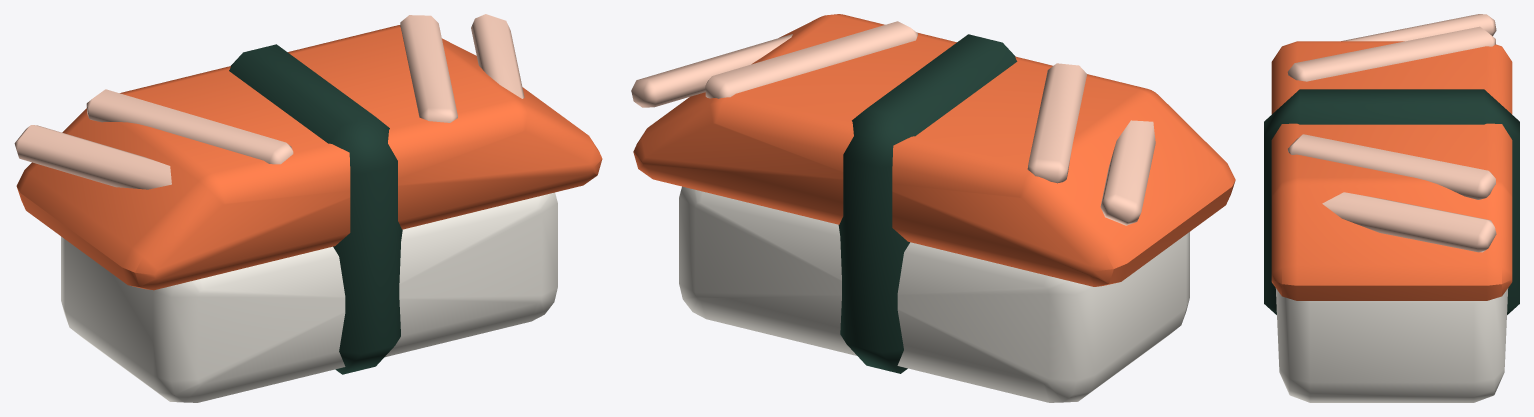
Rendered from Food_sushi.glb.
3 renders of one model, left to right at view 1: azimuth 30°, elevation 25°; view 2: azimuth 150°, elevation 25°; view 3: azimuth 270°, elevation 25°, orthographic. The views are drawn at different scales.
Parts seen in each view (by area): view 1: Salmon_FF7A45, Rice_FFFBF2, Nori_1F3D34, SalmonFat_FFD2BD; view 2: Salmon_FF7A45, Rice_FFFBF2, Nori_1F3D34, SalmonFat_FFD2BD; view 3: Salmon_FF7A45, Rice_FFFBF2, SalmonFat_FFD2BD, Nori_1F3D34.
Part boxes in pixels (x1=…): Salmon_FF7A45: x1=16, y1=25, x2=602, y2=290; Rice_FFFBF2: x1=61, y1=192, x2=557, y2=402; Nori_1F3D34: x1=229, y1=44, x2=402, y2=374; SalmonFat_FFD2BD: x1=14, y1=14, x2=524, y2=189; Salmon_FF7A45: x1=633, y1=14, x2=1235, y2=286; Rice_FFFBF2: x1=679, y1=186, x2=1189, y2=402; Nori_1F3D34: x1=838, y1=34, x2=1017, y2=373; SalmonFat_FFD2BD: x1=631, y1=21, x2=1155, y2=225; Salmon_FF7A45: x1=1271, y1=41, x2=1512, y2=300; Rice_FFFBF2: x1=1275, y1=288, x2=1508, y2=402; SalmonFat_FFD2BD: x1=1287, y1=14, x2=1496, y2=252; Nori_1F3D34: x1=1264, y1=89, x2=1519, y2=314.
Size of the model in its own units: 2.07 by 1 by 1.
